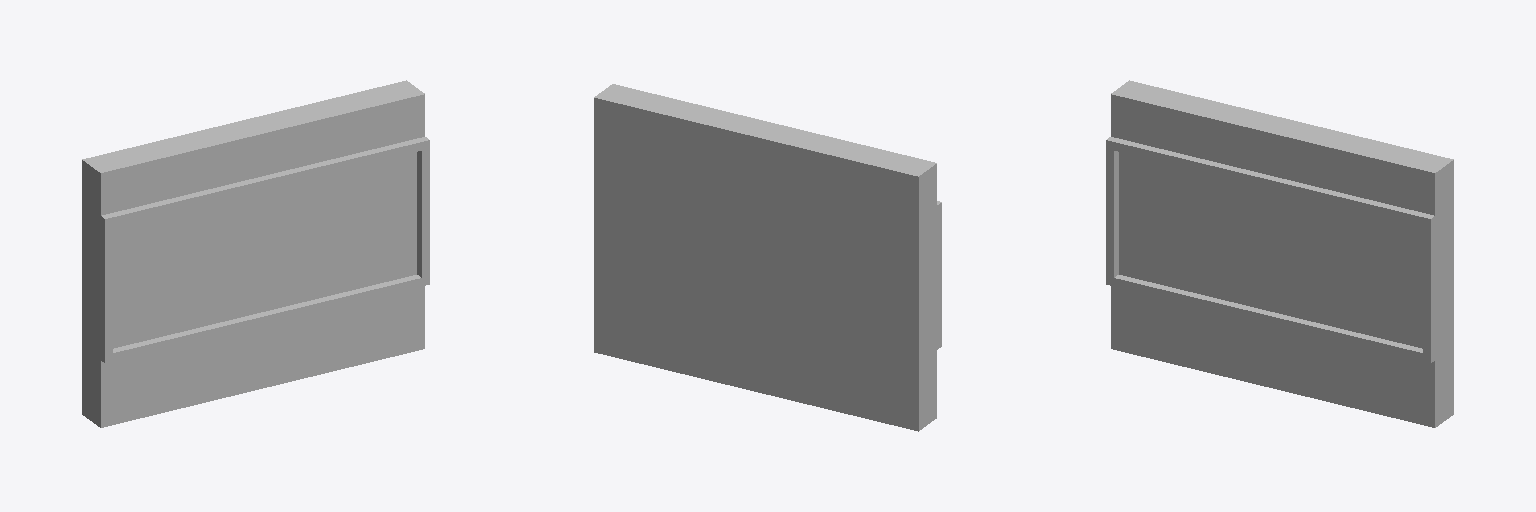
Rendered from wall_concrete.obj.
3 views of the same model, side by side, from view 1: azimuth 30°, elevation 25°; view 2: azimuth 150°, elevation 25°; view 3: azimuth 330°, elevation 25° (orthographic).
Bounding box in the file's own units: 40 × 30 × 5.